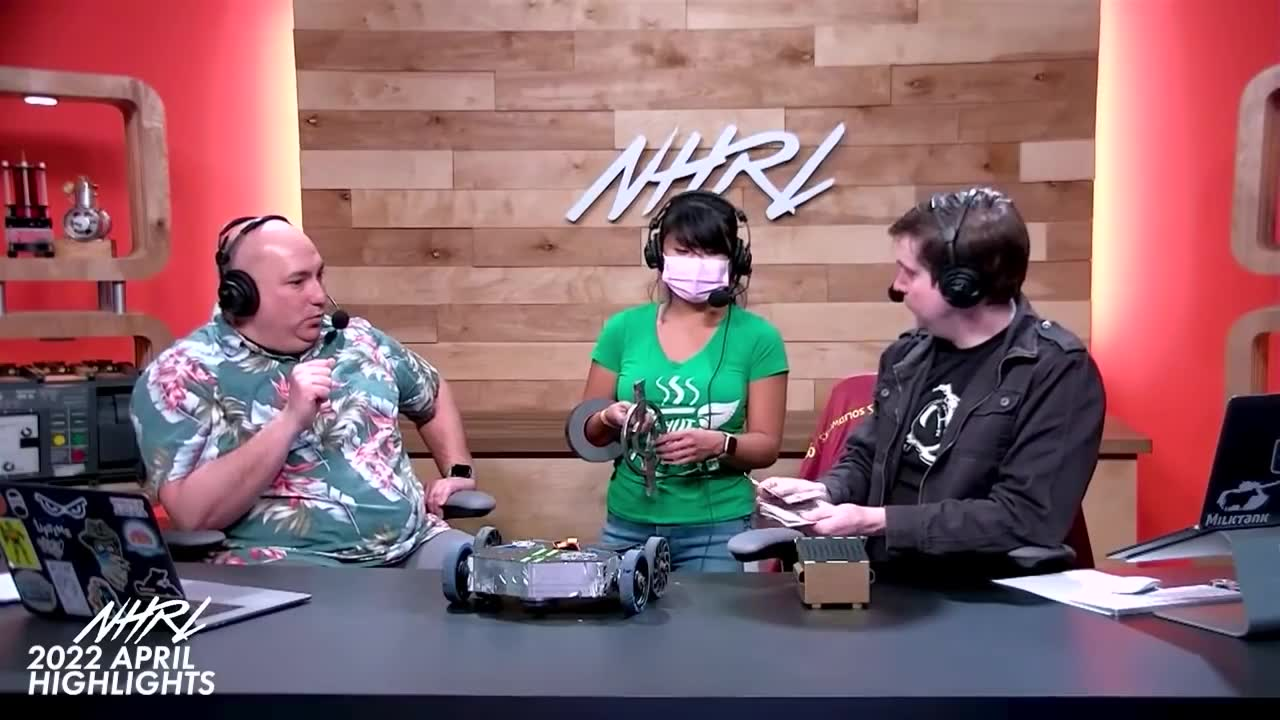combatbot: (443, 527, 674, 616)
